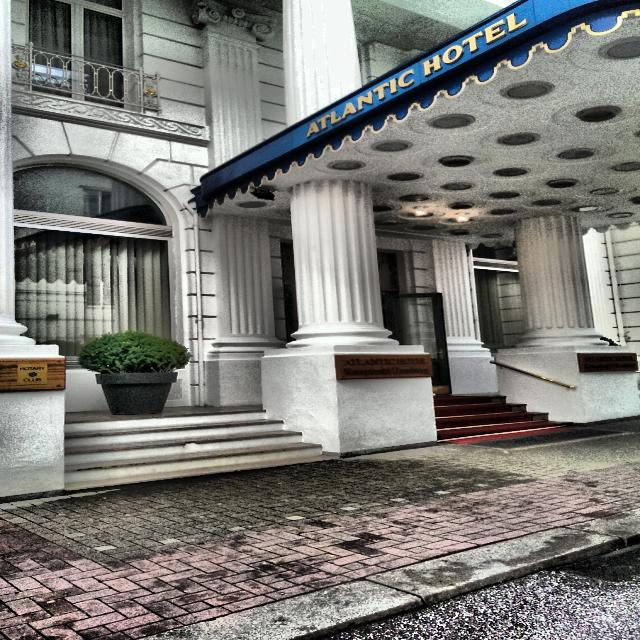escada: (61, 415, 322, 483), (432, 393, 552, 437)
